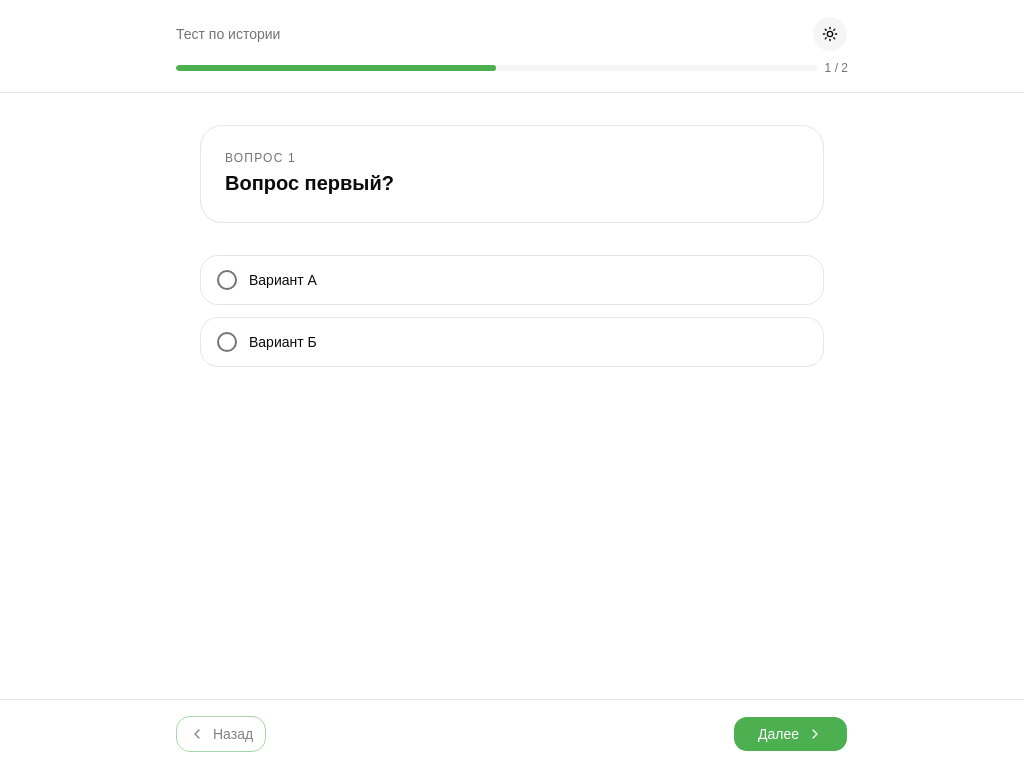
Test: QuizTakingPage › complete phase › shows "Вы ответили на все вопросы!" after completing all questions
The image size is (1024, 768).
Click the button "Далее" at [790, 734], box left=733, top=716, right=848, bottom=752
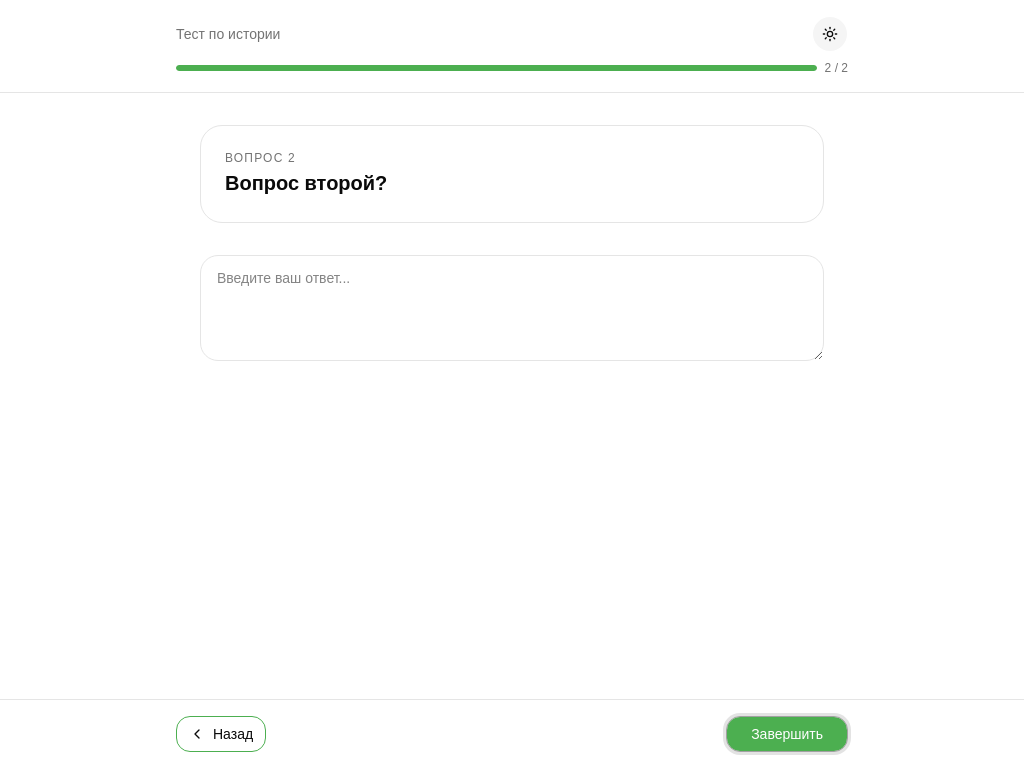
Click the button "Завершить" at [787, 734], box left=726, top=716, right=848, bottom=752
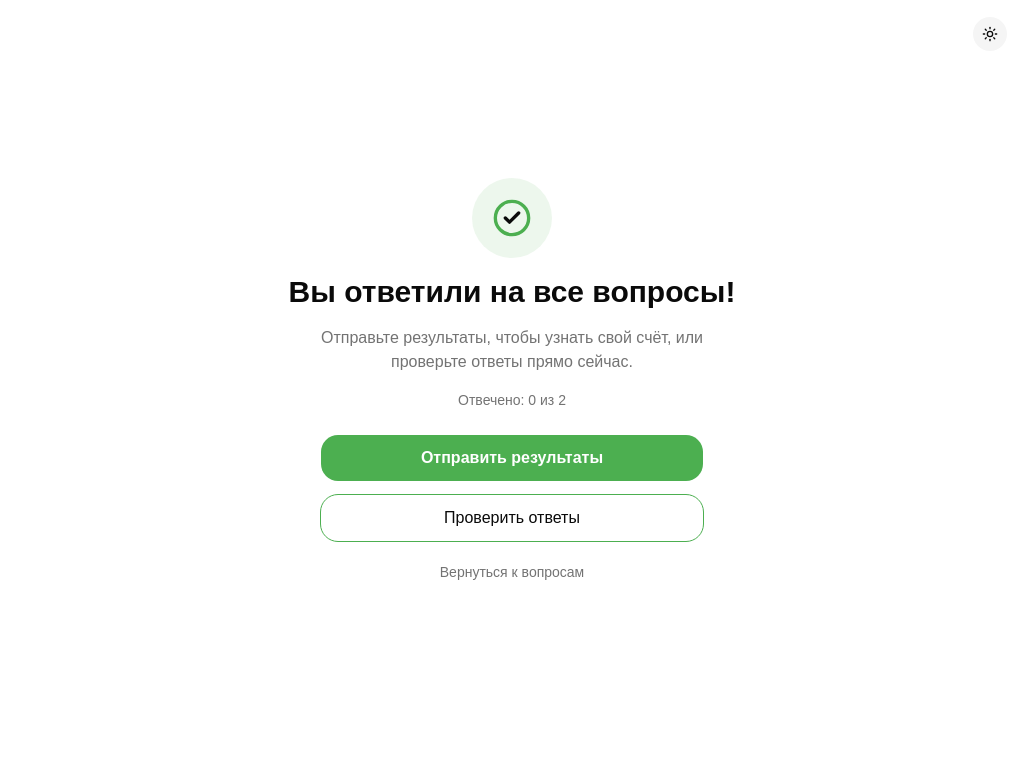
Result: the heading "Вы ответили на все вопросы!" is shown at left=289, top=274, right=735, bottom=310
